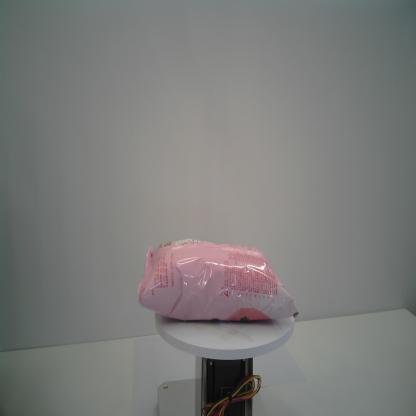Puffed Food: (137, 238, 300, 322)
